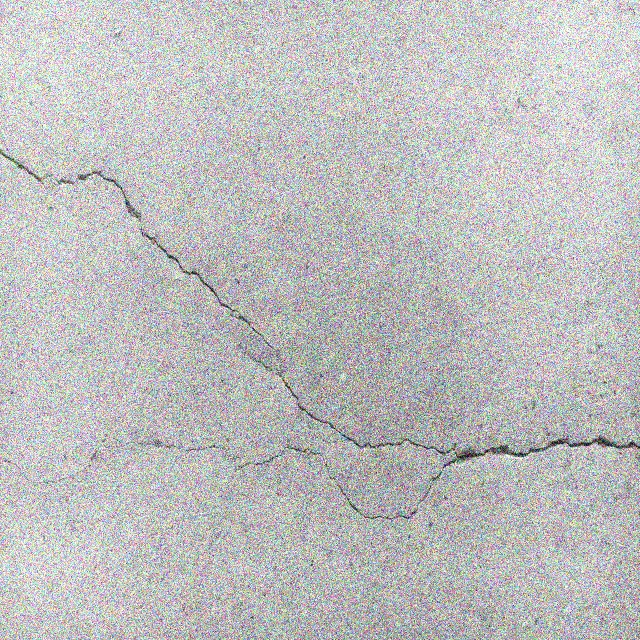SurfaceCrack: (1, 10, 638, 516)
